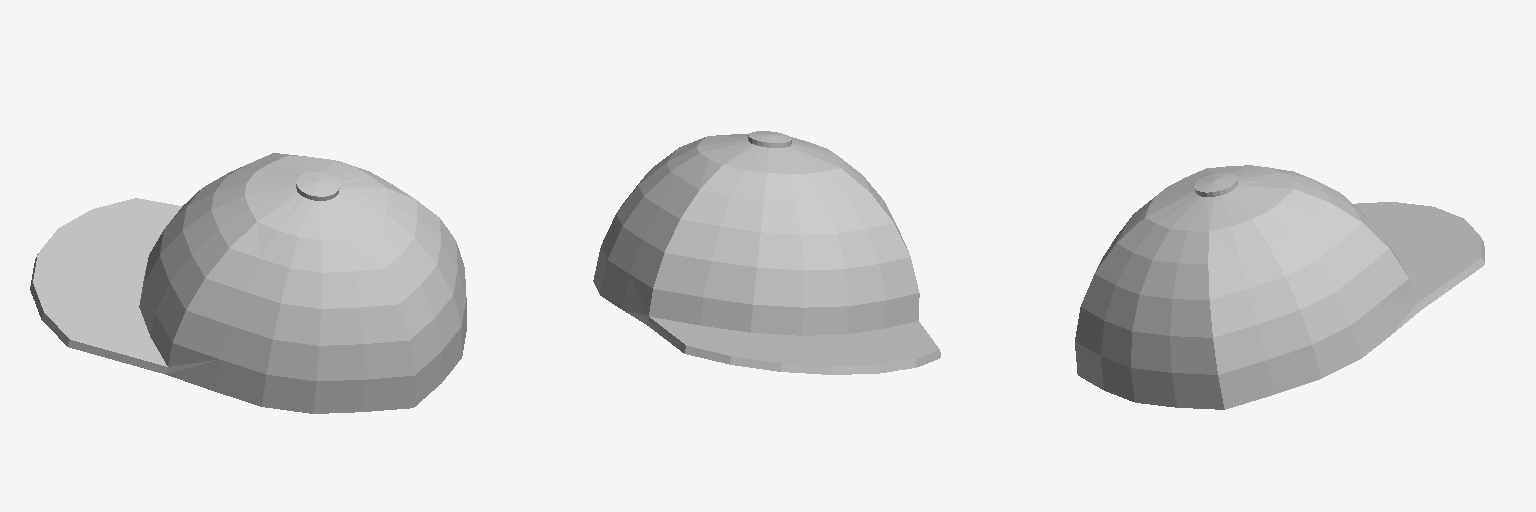
File: baseballcap_basic.sgm.obj
3 renders of one model, left to right at view 1: azimuth 30°, elevation 25°; view 2: azimuth 150°, elevation 25°; view 3: azimuth 270°, elevation 25°, orthographic.
Bounding box in the file's own units: 0.5039 × 0.2436 × 0.4932.